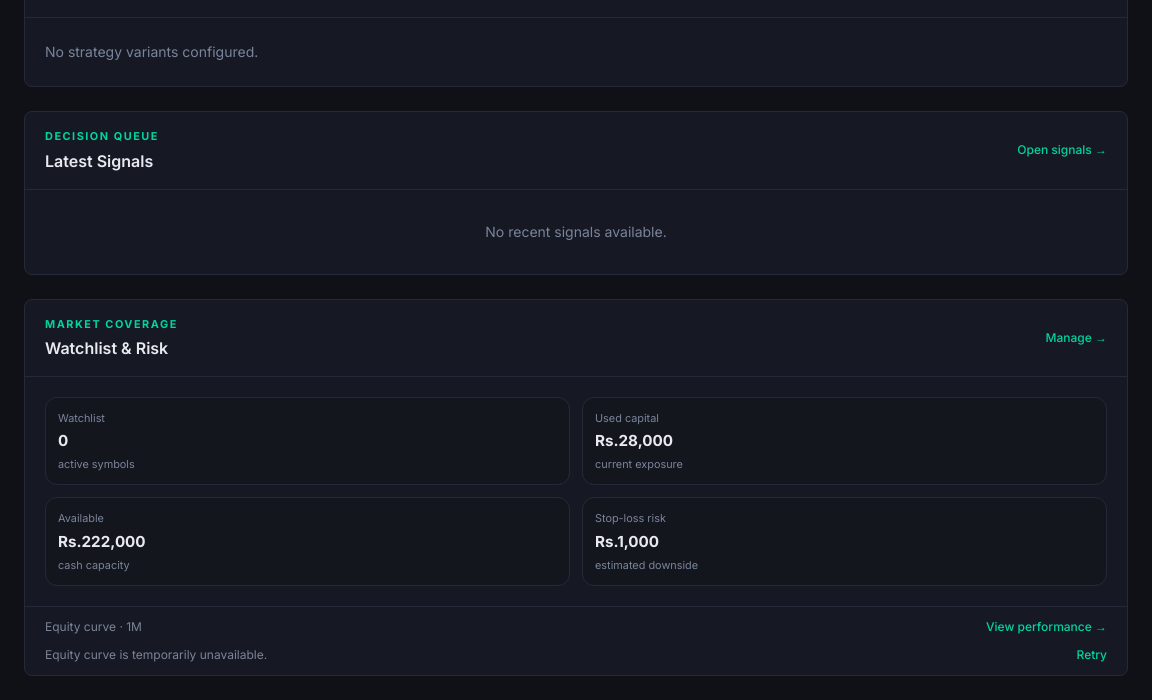
DashboardView — independent section failures › keeps the dashboard visible and retries only the failed equity section
(page scrolled)
Click the button "Retry" at x=1092, y=655, box [1076,647,1107,663]
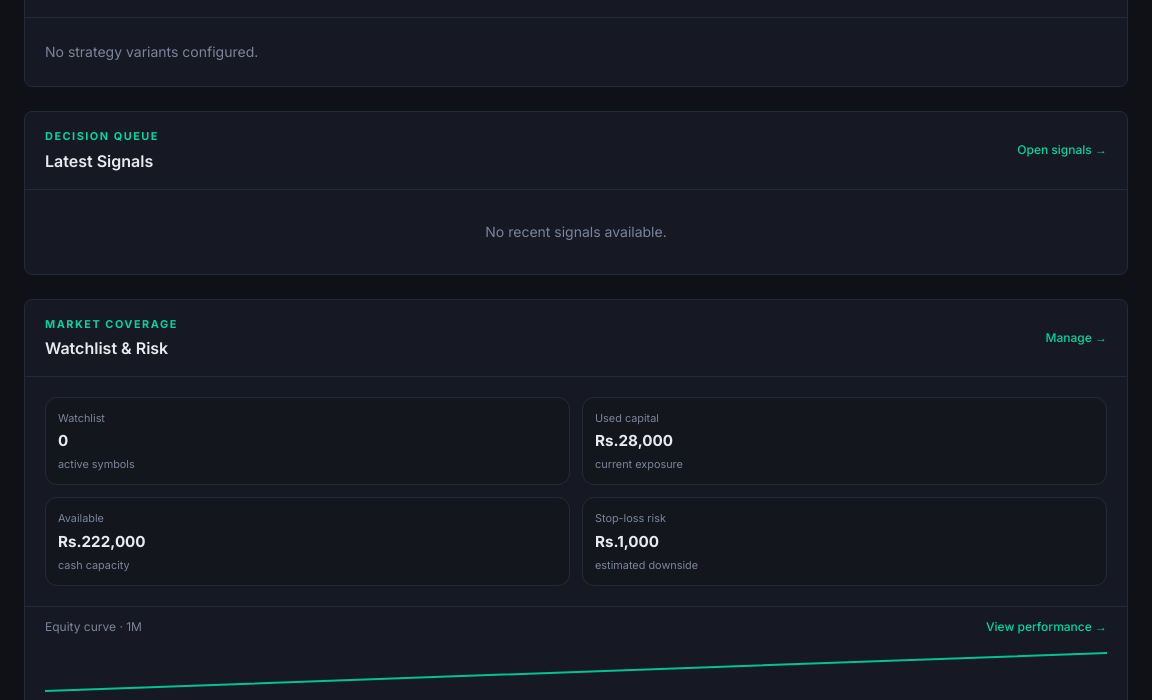
Now the icon named "One month equity curve" is shown, box [45,647,1107,695]
